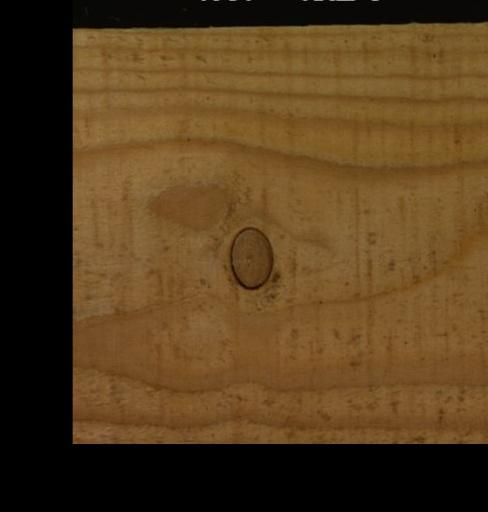dry_knot: (225, 224, 272, 289)
